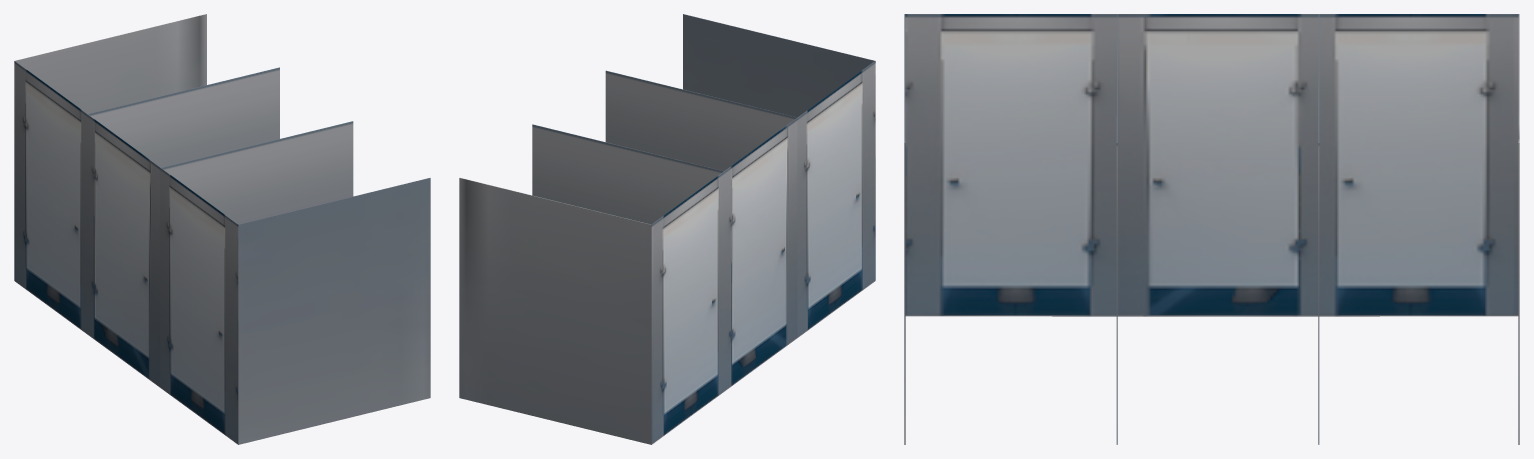
3 views of the same model, side by side, from view 1: azimuth 30°, elevation 25°; view 2: azimuth 150°, elevation 25°; view 3: azimuth 270°, elevation 25° (orthographic). The views are drawn at different scales.
Visible parts, largest first — view 1: Cube.001; view 2: Cube.001; view 3: Cube.001.
Boxes of the visible parts, box(x1,y1,x2,y2) form: Cube.001: box(14, 14, 430, 444); Cube.001: box(459, 14, 875, 444); Cube.001: box(904, 14, 1519, 444).
Size of the model in its own units: 296 by 324 by 598.
1 material, 1 textured.
